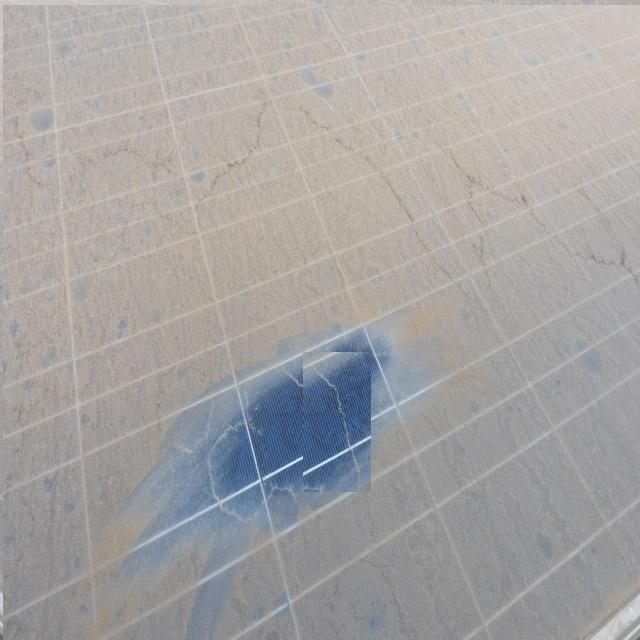Dusty: (3, 5, 640, 640)
Physical-damage: (335, 410, 443, 539), (303, 352, 371, 492)
